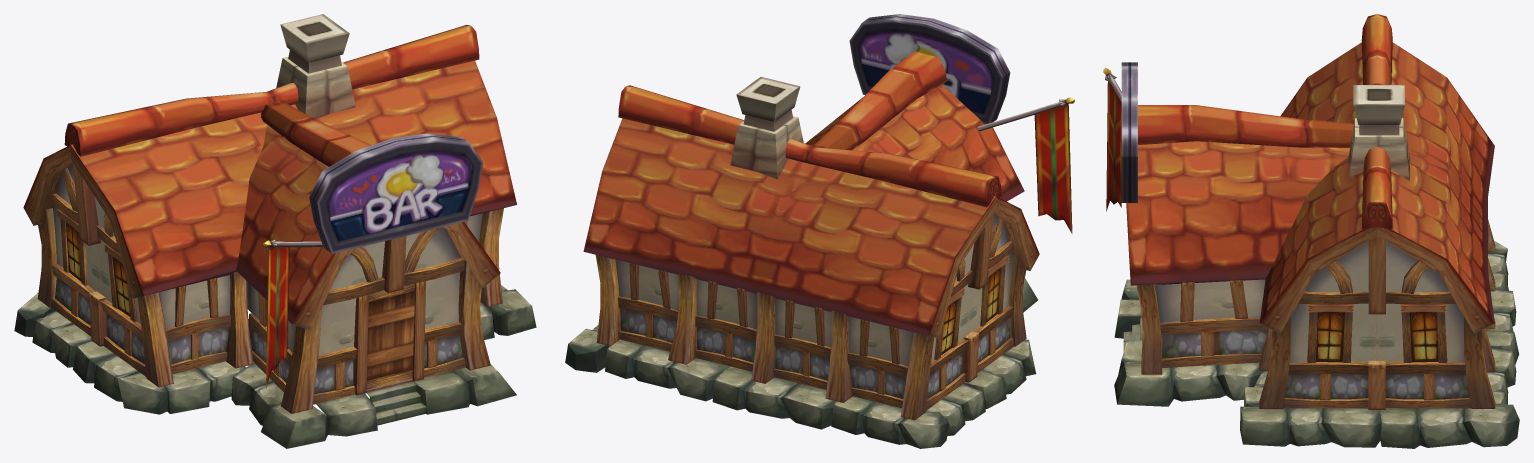
File: fangzi02.FBX
3 renders of one model, left to right at view 1: azimuth 30°, elevation 25°; view 2: azimuth 150°, elevation 25°; view 3: azimuth 270°, elevation 25°, orthographic. The views are drawn at different scales.
Parts seen in each view (by area): view 1: majorcity_pub; view 2: majorcity_pub; view 3: majorcity_pub.
Boxes of the visible parts, <box> form: majorcity_pub: <box>14,14,536,448</box>; majorcity_pub: <box>565,14,1074,448</box>; majorcity_pub: <box>1103,14,1519,448</box>.
Bounding box in the file's own units: 95.16 × 63.62 × 86.64.
